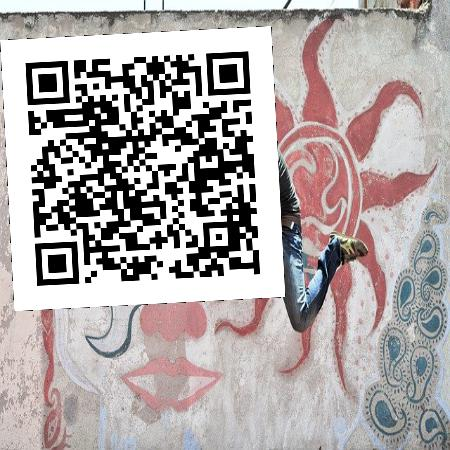qr_code: (0, 26, 285, 310)
